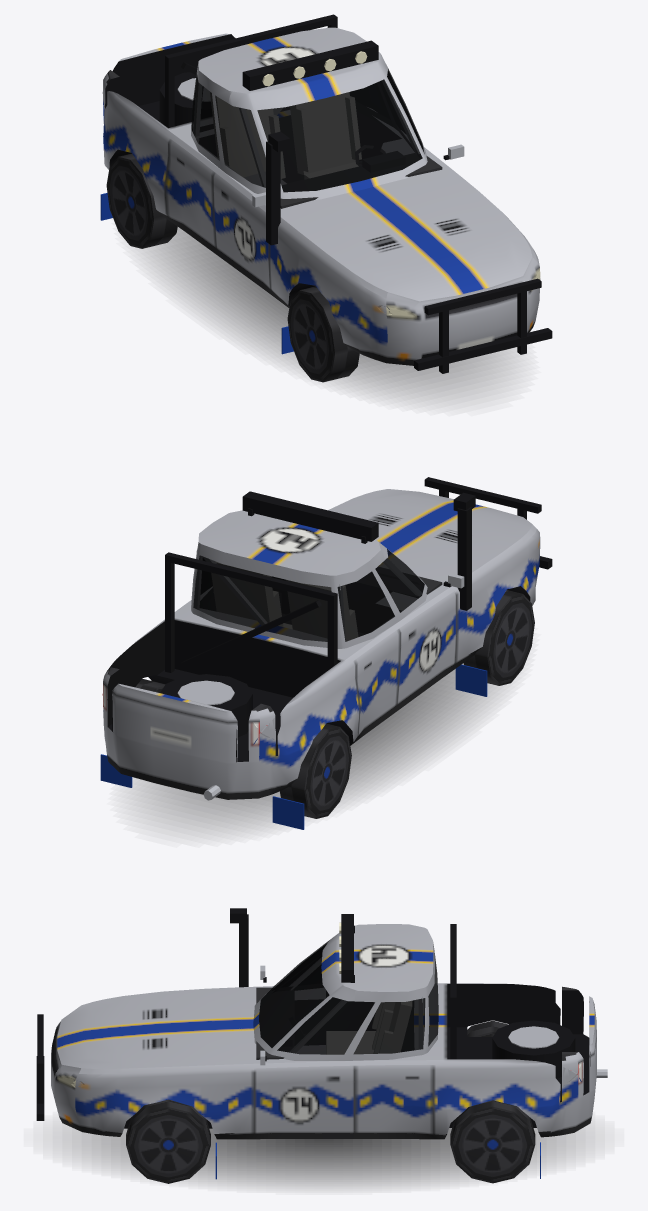
File: grota.glb
3 views of the same model, one above another, from view 1: azimuth 30°, elevation 25°; view 2: azimuth 150°, elevation 25°; view 3: azimuth 270°, elevation 25° (orthographic). The views are drawn at different scales.
Parts seen in each view (by area): view 1: Carroceria, Capo_malha, Interior, Sombra, Porta_D_malha, Porta_TD_malha, Roda_DD, Roda_TD, Tampa_malha, Porta_E_malha, Porta_TE_malha; view 2: Carroceria, Sombra, Capo_malha, Interior, Porta_TD_malha, Tampa_malha, Porta_D_malha, Roda_TD, Roda_DD; view 3: Carroceria, Sombra, Capo_malha, Porta_E_malha, Porta_TE_malha, Interior, Roda_DE, Roda_TE, Porta_D_malha, Tampa_malha, Roda_TD.
Boxes of the visible parts, x1=… form: Carroceria: x1=100, y1=14, x2=552, y2=373; Capo_malha: x1=287, y1=176, x2=536, y2=301; Interior: x1=193, y1=72, x2=442, y2=208; Sombra: x1=145, y1=227, x2=514, y2=400; Porta_D_malha: x1=212, y1=91, x2=281, y2=288; Porta_TD_malha: x1=165, y1=61, x2=232, y2=247; Roda_DD: x1=287, y1=286, x2=359, y2=382; Roda_TD: x1=106, y1=153, x2=177, y2=248; Tampa_malha: x1=112, y1=33, x2=235, y2=106; Porta_E_malha: x1=378, y1=55, x2=464, y2=162; Porta_TE_malha: x1=350, y1=54, x2=392, y2=119; Carroceria: x1=100, y1=477, x2=552, y2=829; Sombra: x1=133, y1=663, x2=500, y2=832; Capo_malha: x1=331, y1=489, x2=536, y2=578; Interior: x1=194, y1=551, x2=442, y2=640; Porta_TD_malha: x1=333, y1=549, x2=400, y2=735; Tampa_malha: x1=112, y1=683, x2=237, y2=762; Porta_D_malha: x1=379, y1=542, x2=464, y2=704; Roda_TD: x1=280, y1=723, x2=351, y2=818; Roda_DD: x1=463, y1=590, x2=534, y2=685; Carroceria: x1=36, y1=908, x2=607, y2=1179; Sombra: x1=62, y1=1126, x2=585, y2=1187; Capo_malha: x1=61, y1=989, x2=241, y2=1074; Porta_E_malha: x1=254, y1=985, x2=354, y2=1133; Porta_TE_malha: x1=355, y1=987, x2=433, y2=1134; Interior: x1=256, y1=956, x2=422, y2=1059; Roda_DE: x1=126, y1=1099, x2=210, y2=1183; Roda_TE: x1=450, y1=1100, x2=535, y2=1183; Porta_D_malha: x1=260, y1=945, x2=325, y2=989; Tampa_malha: x1=589, y1=996, x2=596, y2=1091; Roda_TD: x1=467, y1=1020, x2=508, y2=1036.
Bounding box in the file's own units: 2.64 × 2.07 × 5.85.
14 materials, 5 textured.
